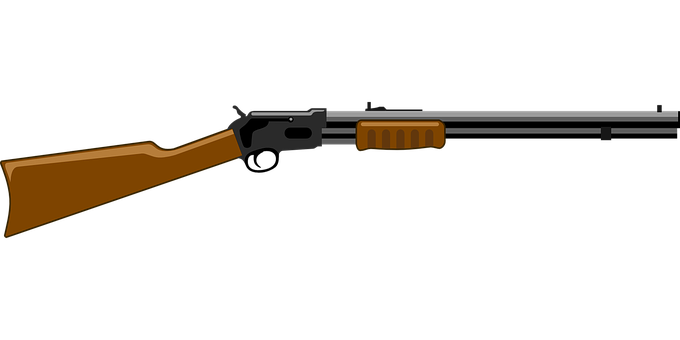shotgun: (4, 88, 680, 247)
